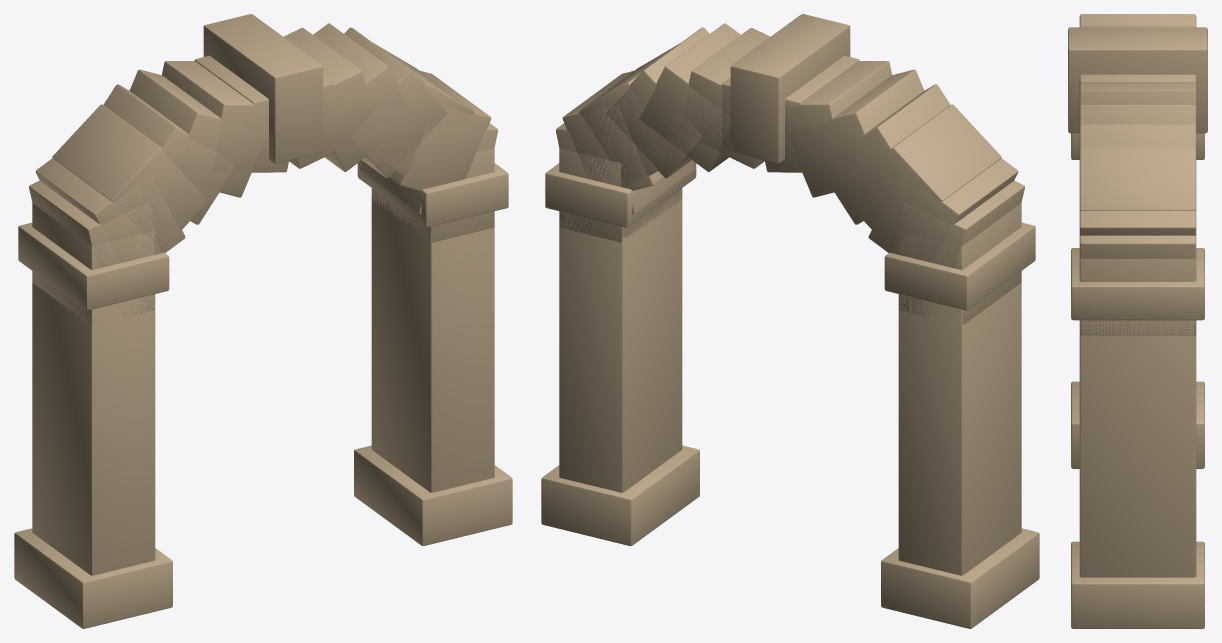
Rendered from gate.glb.
The picture shows the model from 3 angles, left to right: view 1: azimuth 30°, elevation 25°; view 2: azimuth 150°, elevation 25°; view 3: azimuth 270°, elevation 25°; orthographic projection. The views are drawn at different scales.
Visible parts, largest first — view 1: Gate; view 2: Gate; view 3: Gate.
Part boxes in pixels (x1,y1,x2,y2): Gate: (14, 14, 512, 628); Gate: (541, 14, 1039, 628); Gate: (1068, 14, 1207, 628).
Bounding box in the file's own units: 4.54 × 5.11 × 1.32.
